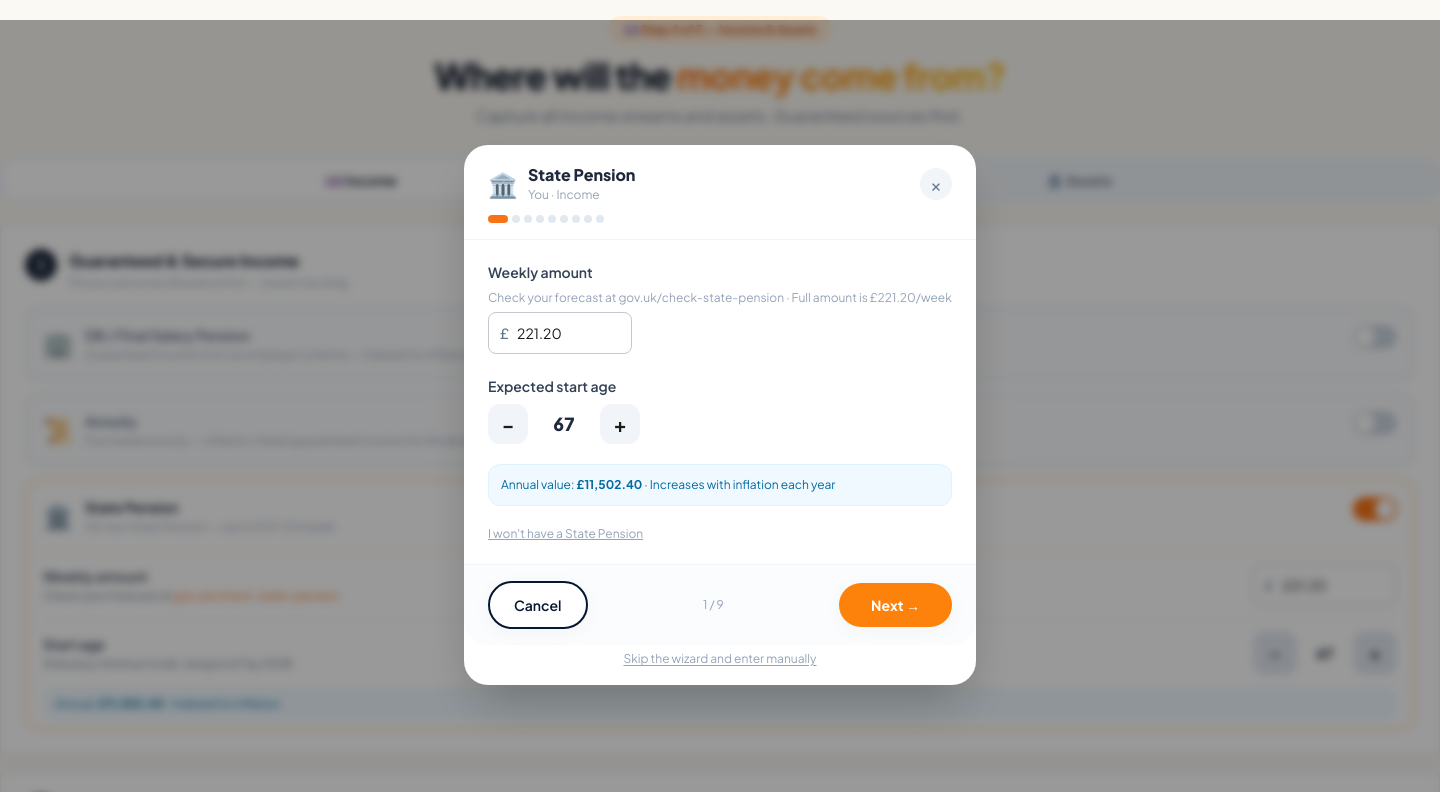
Test: Step3IncomeSources — quick entry card › quick entry expands on toggle and shows pension pot field
The image size is (1440, 792).
Click the button "Skip the wizard and enter manually". click: (720, 659)
box: x1=624 y1=651 x2=816 y2=667
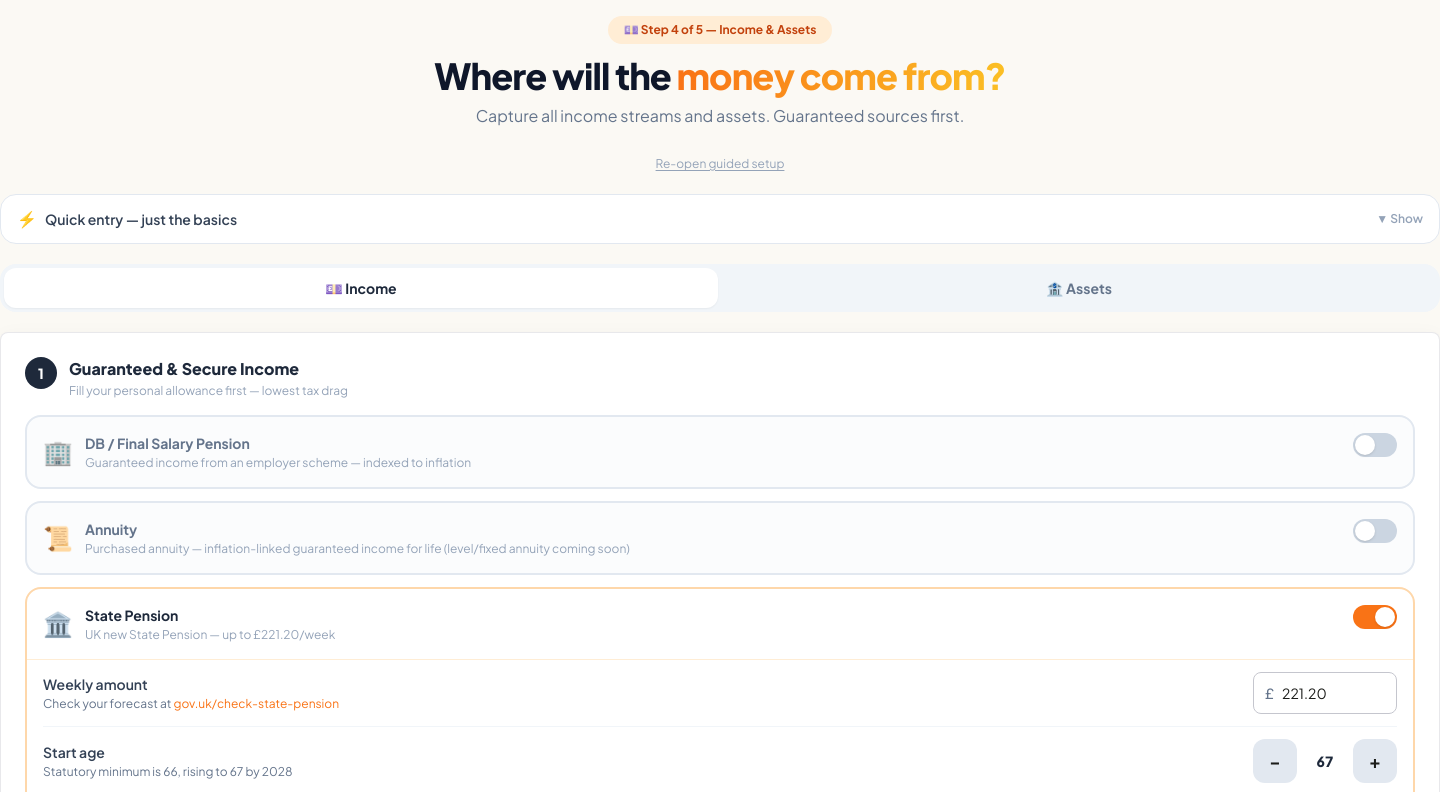
Click the text "Quick entry — just the basics". click: (141, 219)
box: x1=45 y1=209 x2=237 y2=229
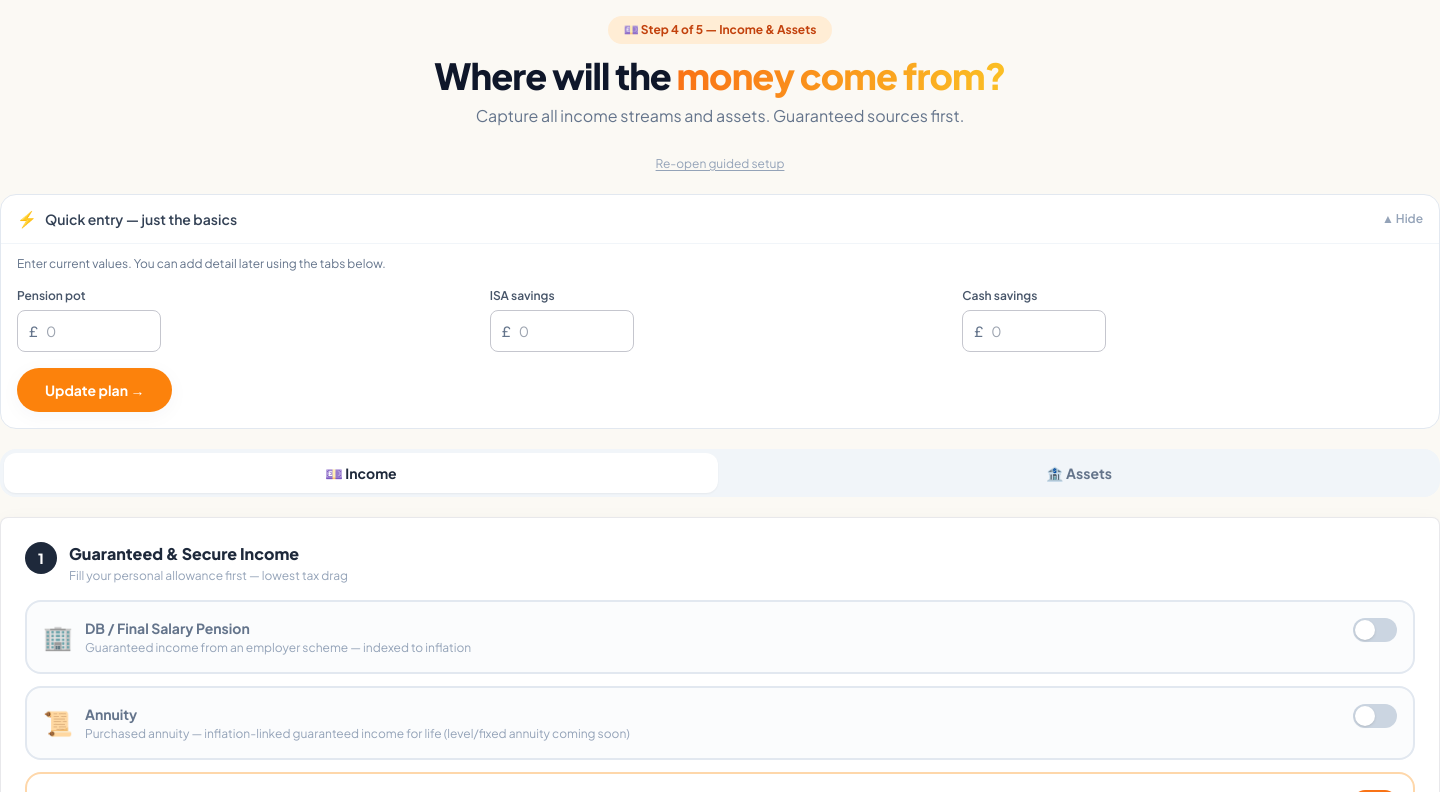
Check: the field named "Person 1 pension pot quick entry" is shown, box x1=17 y1=310 x2=161 y2=352
